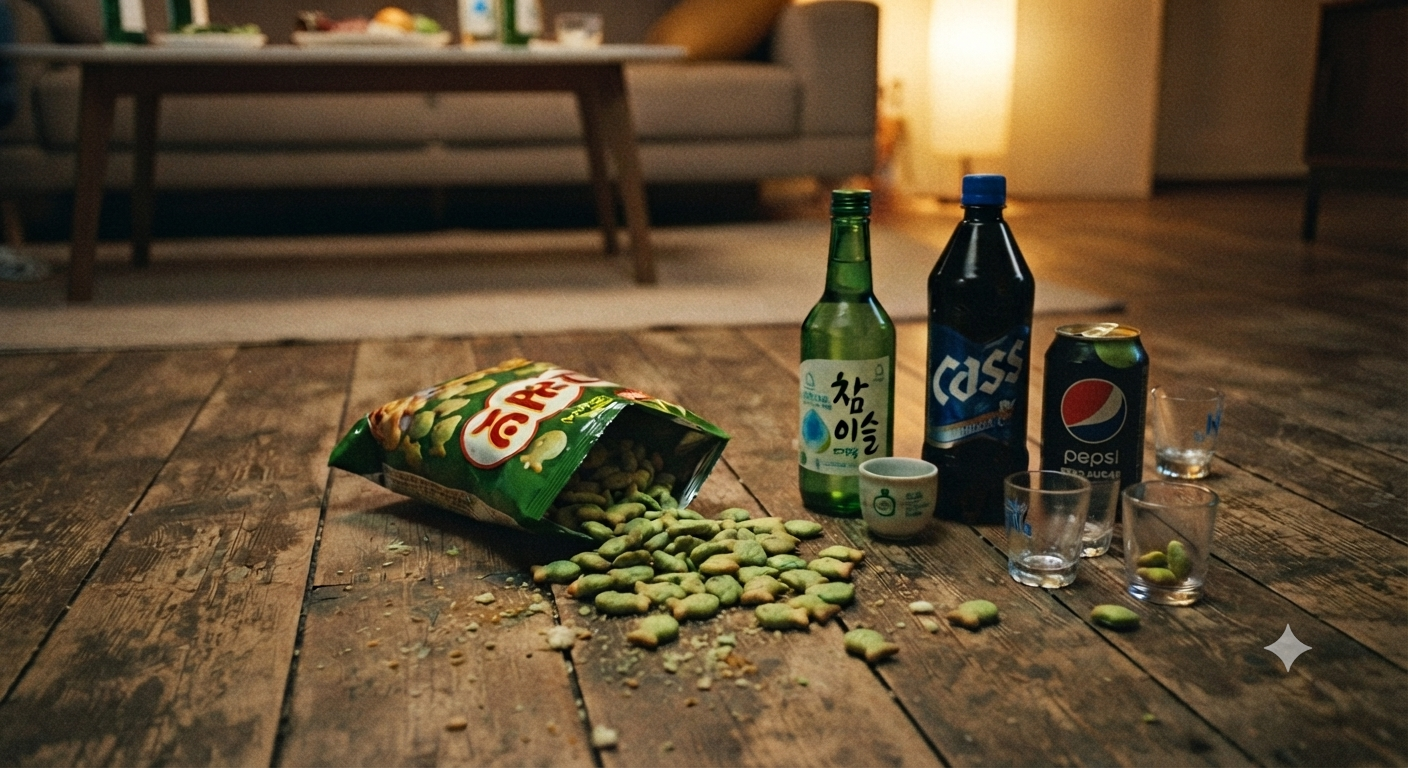beer-bottle: (924, 175, 1036, 524)
soju-bottle: (797, 188, 898, 518)
